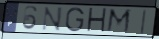6: (22, 5, 39, 32)
G: (65, 6, 86, 33)
H: (86, 6, 109, 34)
I: (139, 8, 148, 36)
M: (105, 7, 133, 35)
N: (40, 6, 64, 32)
